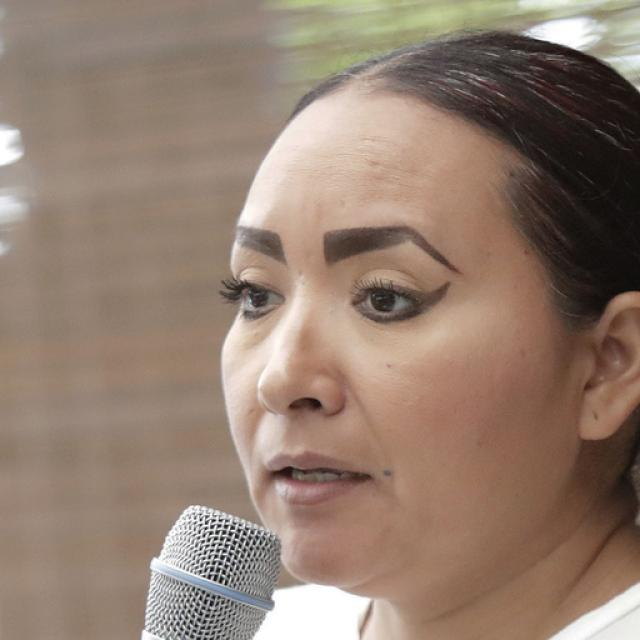surprise: (218, 90, 580, 590)
